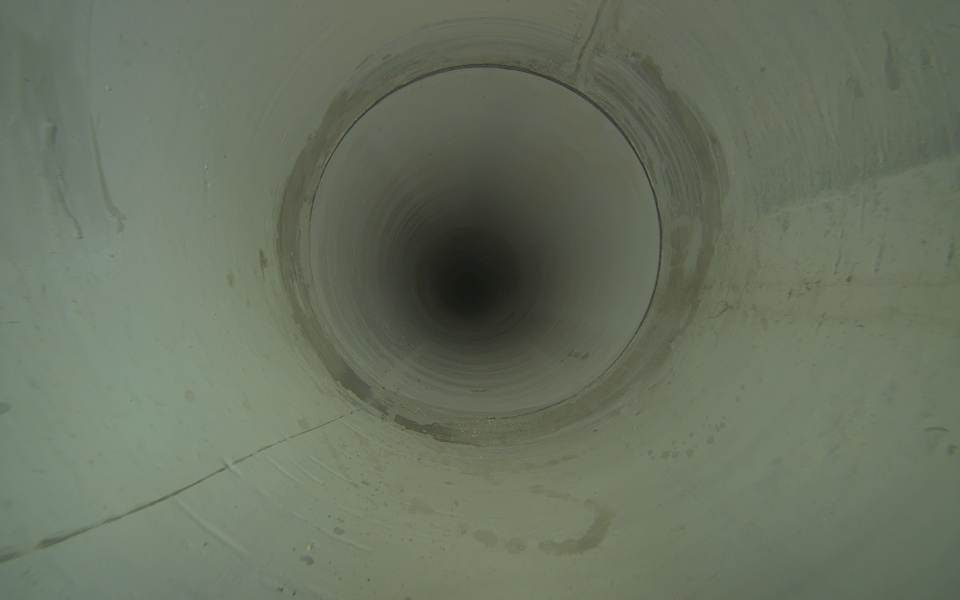circle1: (304, 59, 665, 423)
circle2: (449, 259, 493, 305)
